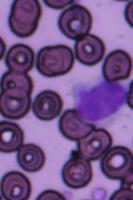L: (72, 77, 127, 125)
